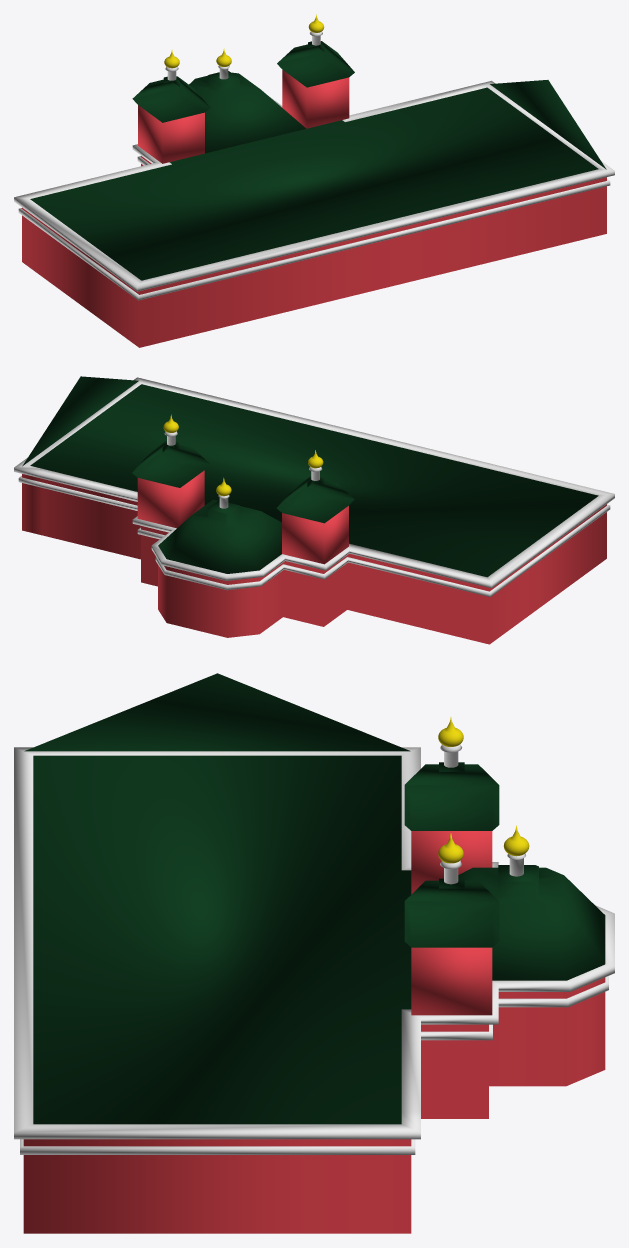
Rendered from manezh.glb.
3 views of the same model, one above another, from view 1: azimuth 30°, elevation 25°; view 2: azimuth 150°, elevation 25°; view 3: azimuth 270°, elevation 25° (orthographic). The views are drawn at different scales.
Visible parts, largest first — view 1: Cylinder.001; view 2: Cylinder.001; view 3: Cylinder.001.
Boxes of the visible parts, bbox=[...] form: Cylinder.001: bbox=[14, 14, 614, 347]; Cylinder.001: bbox=[14, 376, 614, 644]; Cylinder.001: bbox=[14, 673, 614, 1233].
Bounding box in the file's own units: 275 × 90.55 × 182.
